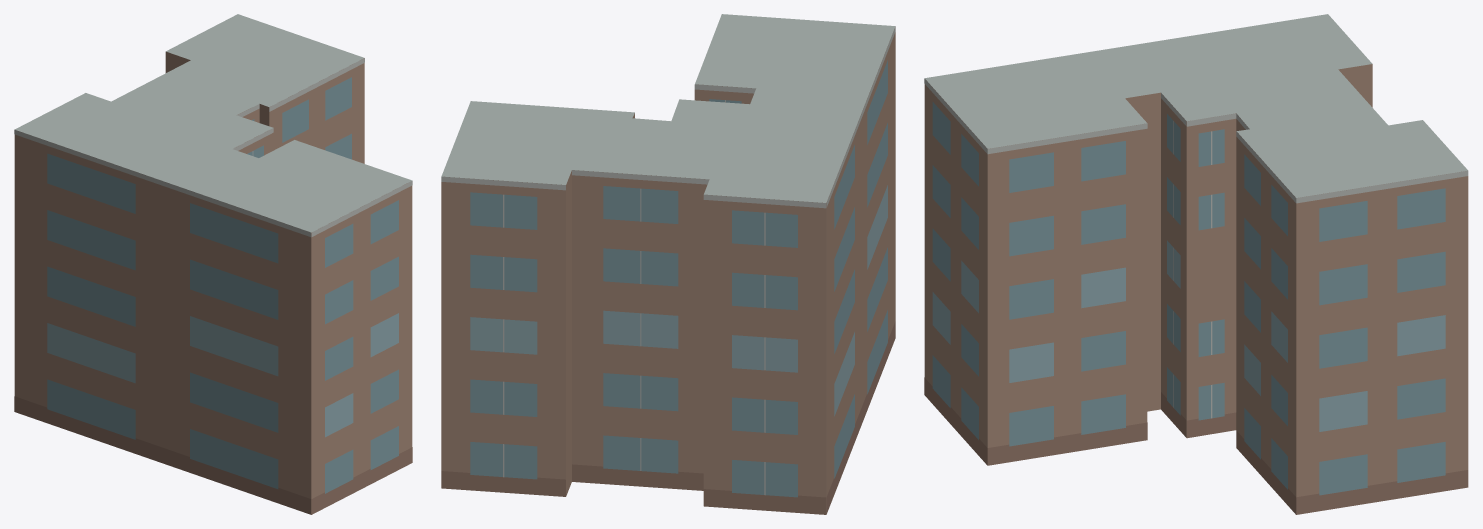
File: survey-upis-32563680.glb
The picture shows the model from 3 angles, left to right: view 1: azimuth 30°, elevation 25°; view 2: azimuth 150°, elevation 25°; view 3: azimuth 270°, elevation 25°; orthographic projection. The views are drawn at different scales.
Parts seen in each view (by area): view 1: survey-upis-32563680.tmp; view 2: survey-upis-32563680.tmp; view 3: survey-upis-32563680.tmp.
Boxes of the visible parts, x1,y1,x2,y2 form: survey-upis-32563680.tmp: (14, 14, 412, 514); survey-upis-32563680.tmp: (441, 14, 895, 514); survey-upis-32563680.tmp: (924, 14, 1468, 514).
Bounding box in the file's own units: 17.89 × 14.35 × 22.34.
